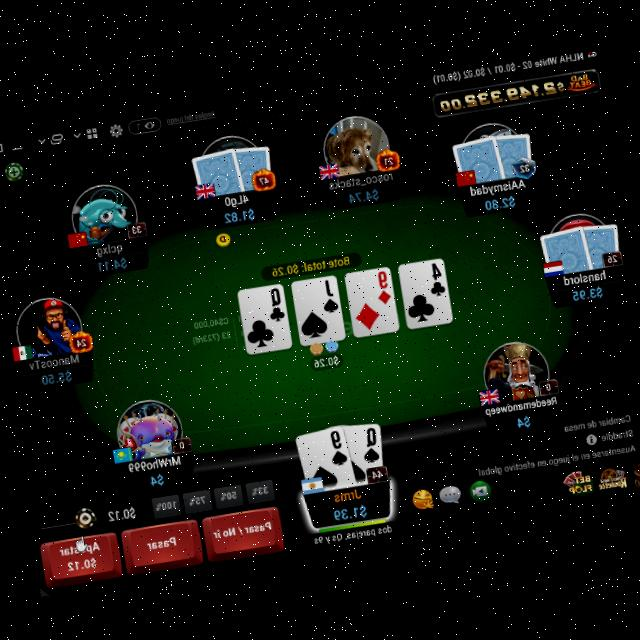4c: (424, 258, 448, 297)
9d: (372, 268, 393, 308)
9s: (325, 428, 349, 468)
Js: (318, 275, 340, 314)
Qc: (264, 284, 286, 322)
Qs: (357, 422, 383, 463)
bet_text: (310, 351, 341, 368)
card_back: (449, 130, 506, 188), (190, 143, 247, 200), (536, 221, 594, 277), (484, 125, 538, 182), (574, 217, 625, 270), (228, 140, 276, 193)
dealer: (213, 227, 233, 247)
hero_active: (35, 500, 288, 589)
pot_text: (270, 252, 350, 276)
stack_text: (330, 497, 370, 522), (345, 183, 381, 204), (482, 190, 517, 211), (38, 365, 74, 385), (95, 251, 129, 271), (222, 204, 257, 223), (569, 282, 604, 300), (514, 410, 532, 427), (148, 468, 166, 484)
